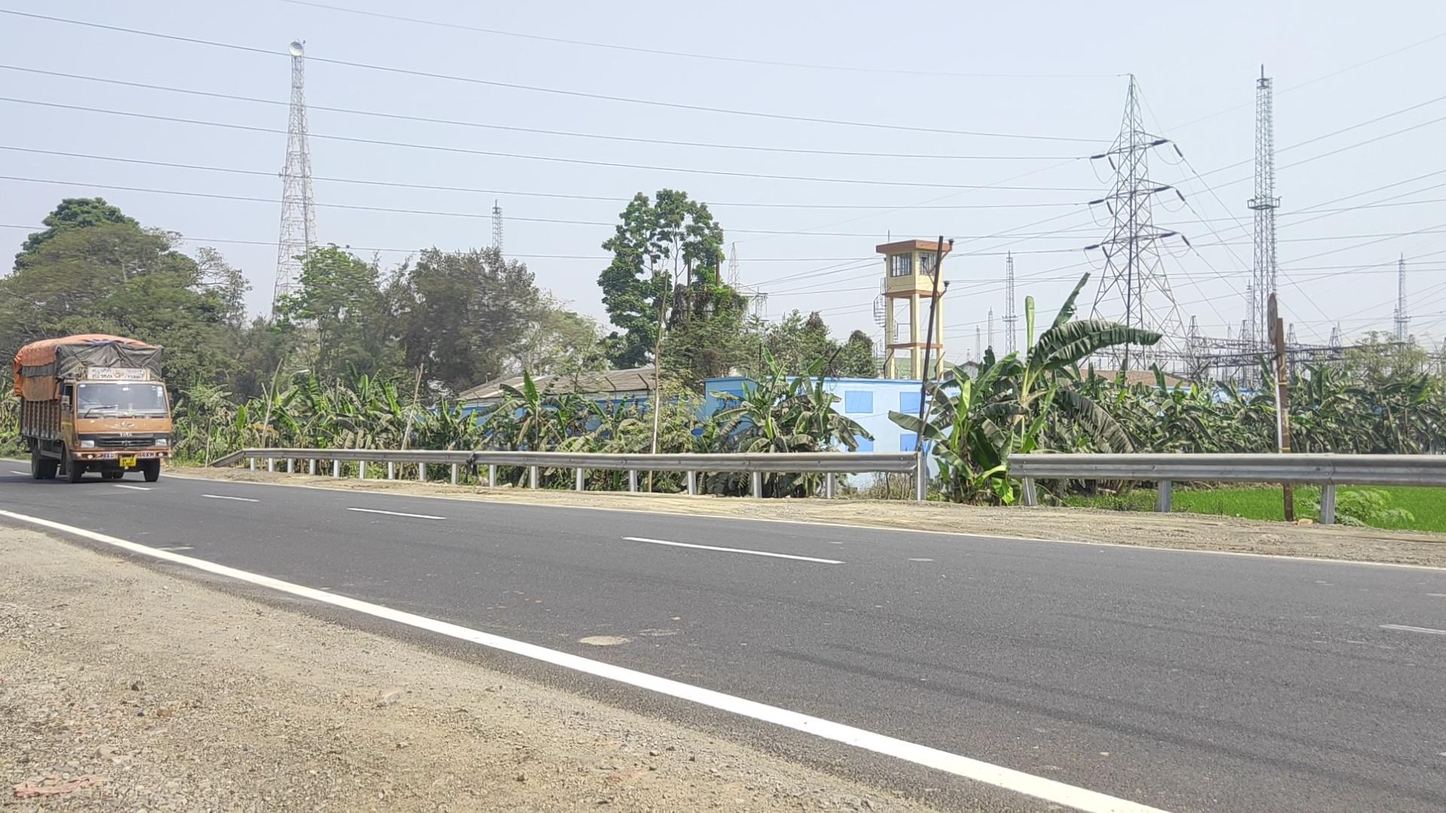truck: (15, 334, 172, 484)
